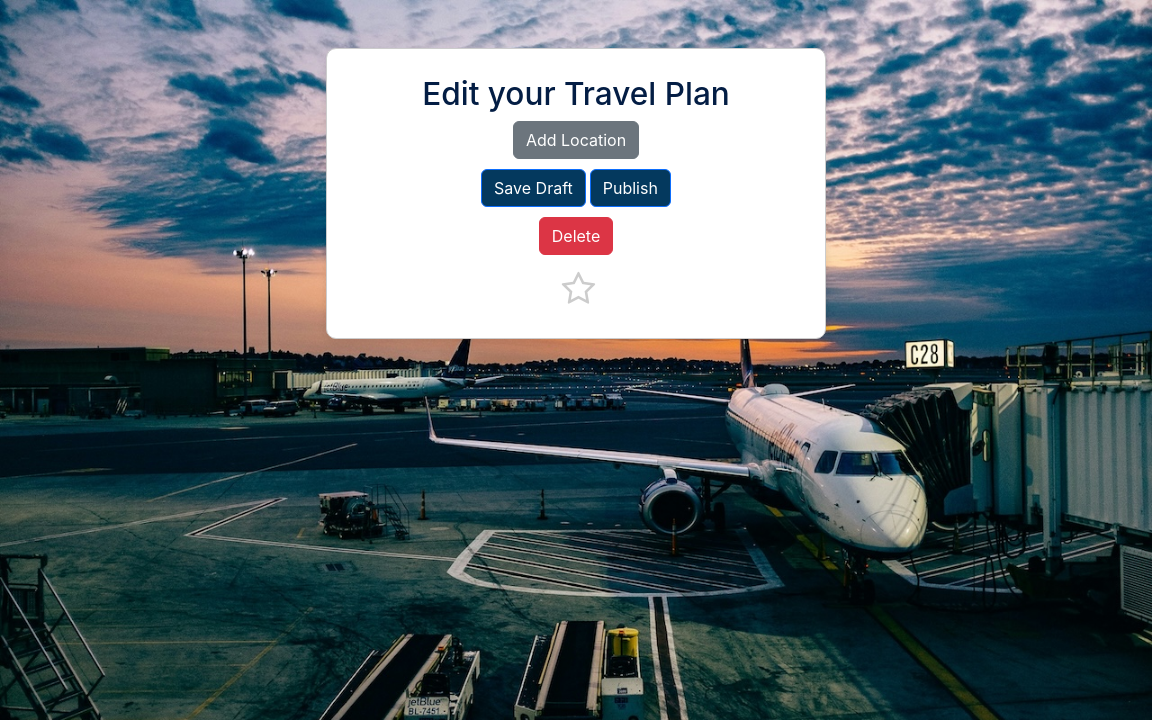
Scenario: EditTravelPlanPage Component › adds a new location
Click the button "Add Location" at (576, 140), box [513,121,639,159]
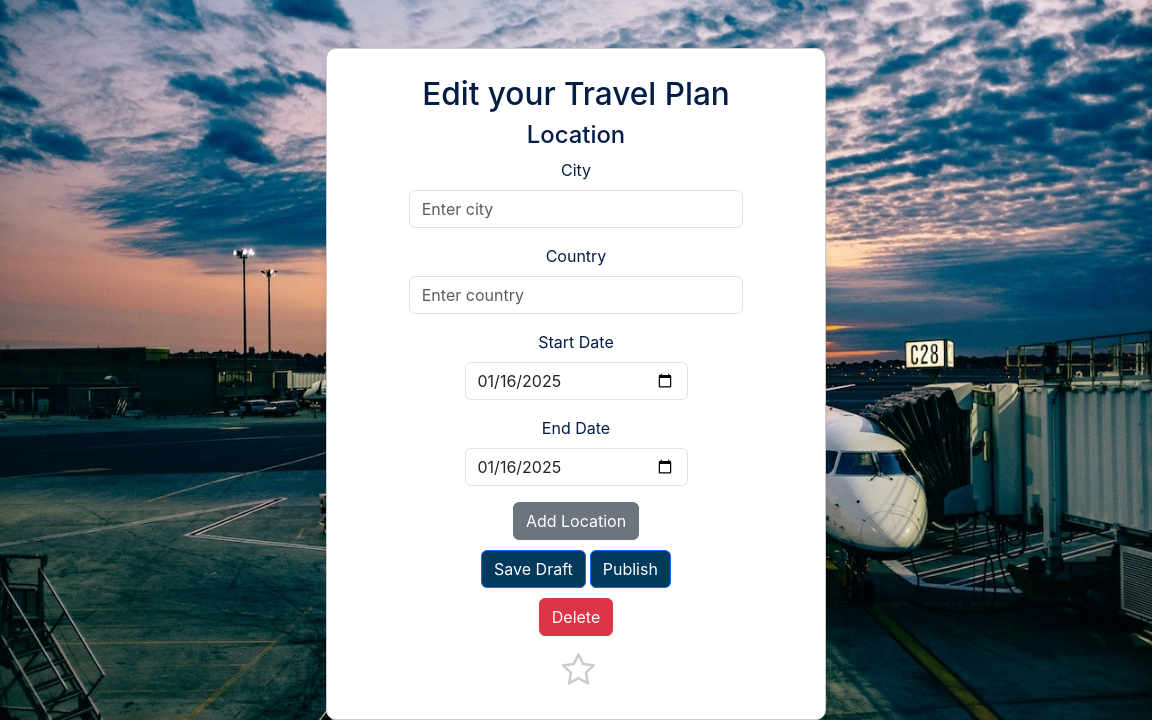
Result: the heading "Location" is shown at [527,120,625,149]
